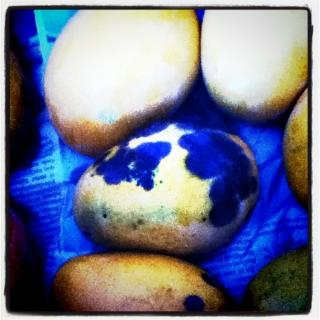Potato: (87, 121, 248, 262)
